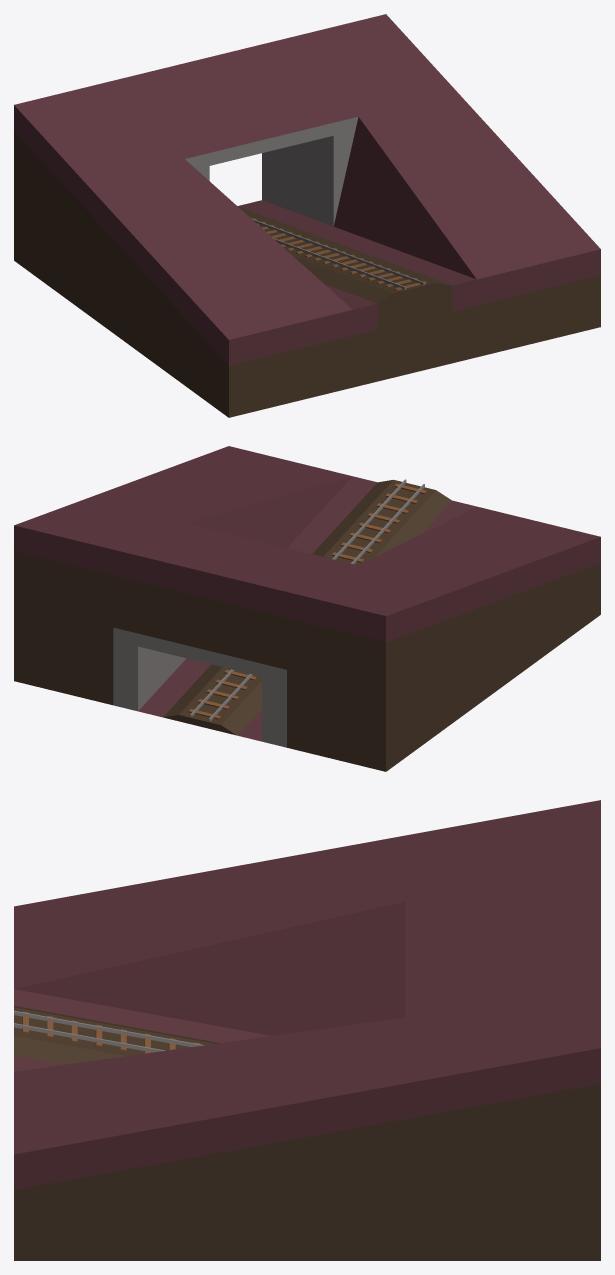
The model's file is tiles-tile-rail-hill-tunnel-entrance.glb.
The picture shows the model from 3 angles, top to bottom: view 1: azimuth 30°, elevation 25°; view 2: azimuth 150°, elevation 25°; view 3: azimuth 270°, elevation 25°; orthographic projection. The views are drawn at different scales.
Parts seen in each view (by area): view 1: tile-rail-hill-tunnel-entrance; view 2: tile-rail-hill-tunnel-entrance; view 3: tile-rail-hill-tunnel-entrance.
Part boxes in pixels (box(x1,y1,x2,y2)): tile-rail-hill-tunnel-entrance: box(14, 14, 600, 417); tile-rail-hill-tunnel-entrance: box(14, 446, 600, 771); tile-rail-hill-tunnel-entrance: box(14, 800, 600, 1260).
Size of the model in its own units: 30 by 12 by 30.
